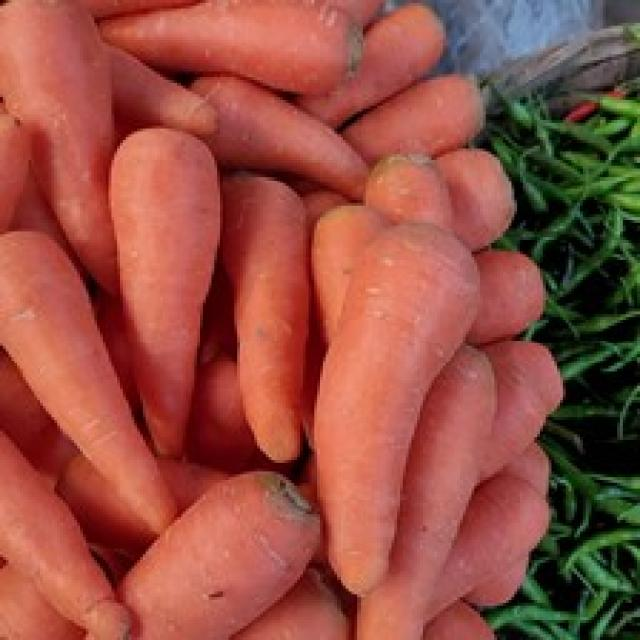Fresh_Carrot: (0, 210, 191, 534), (305, 254, 492, 561), (119, 123, 224, 447), (119, 505, 323, 640), (132, 0, 362, 95)
